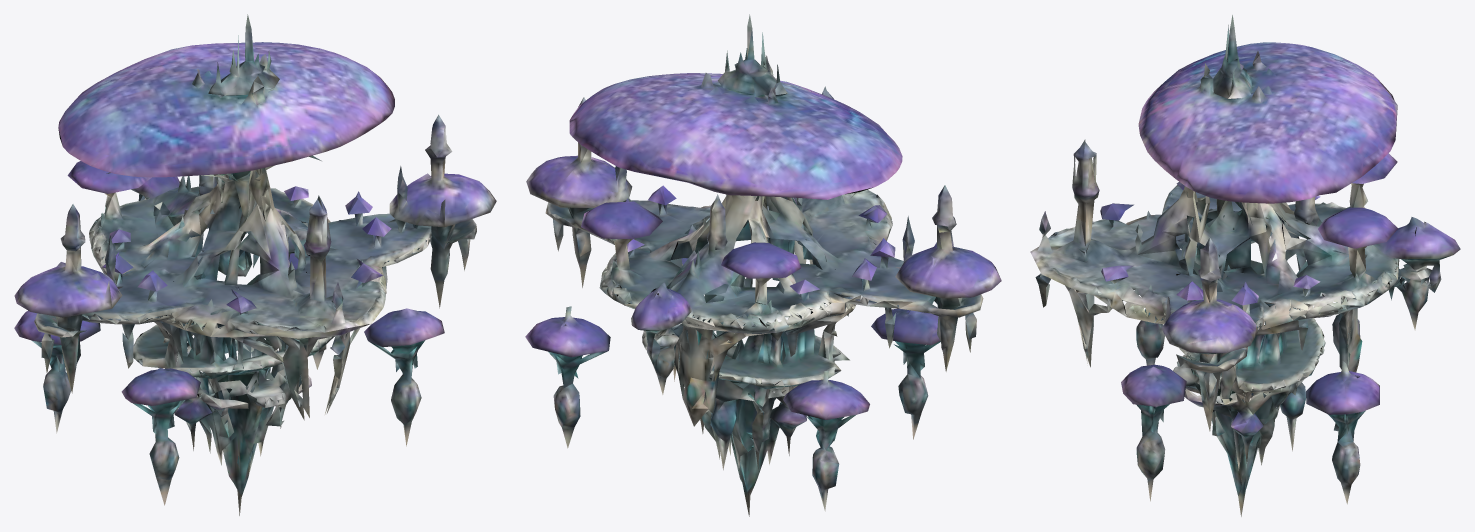
Rendered from HL_Station_Gadversee_Capital_retopo.glb.
The picture shows the model from 3 angles, left to right: view 1: azimuth 30°, elevation 25°; view 2: azimuth 150°, elevation 25°; view 3: azimuth 270°, elevation 25°; orthographic projection.
Visible parts, largest first — view 1: HL_Station_Gadversee_Capital_retopo; view 2: HL_Station_Gadversee_Capital_retopo; view 3: HL_Station_Gadversee_Capital_retopo.
Boxes of the visible parts, bbox=[...] form: HL_Station_Gadversee_Capital_retopo: bbox=[14, 14, 496, 515]; HL_Station_Gadversee_Capital_retopo: bbox=[525, 14, 1001, 516]; HL_Station_Gadversee_Capital_retopo: bbox=[1030, 15, 1460, 516].
Bounding box in the file's own units: 0.9584 × 0.9879 × 0.7621.
Materials: 1 (1 with a texture image).
